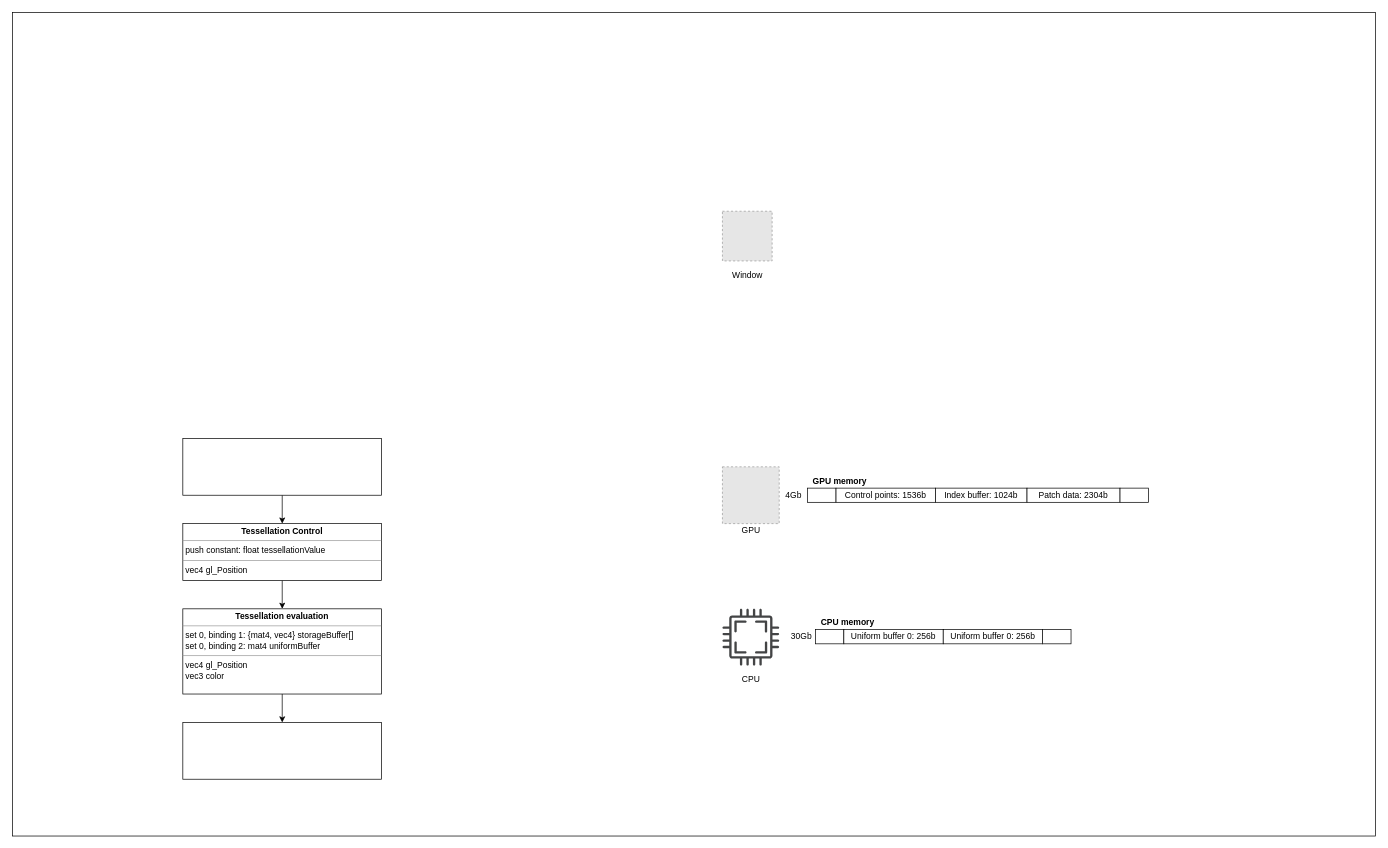
The diagram is 1388 pixels wide and 848 high, and some of its shapes have lost their labels. Grey dashed boxes stand in for pictures. The shapes that lost their labels are listed below. From the top down, each one's centre as x and y in pixels, then its label:
At point 282,466: "Vertex set 0, binding 0: {float, float, float} storageBuffer[] vec4 gl_Position".
At point 282,750: "Fragment vec3 color vec4 color".
